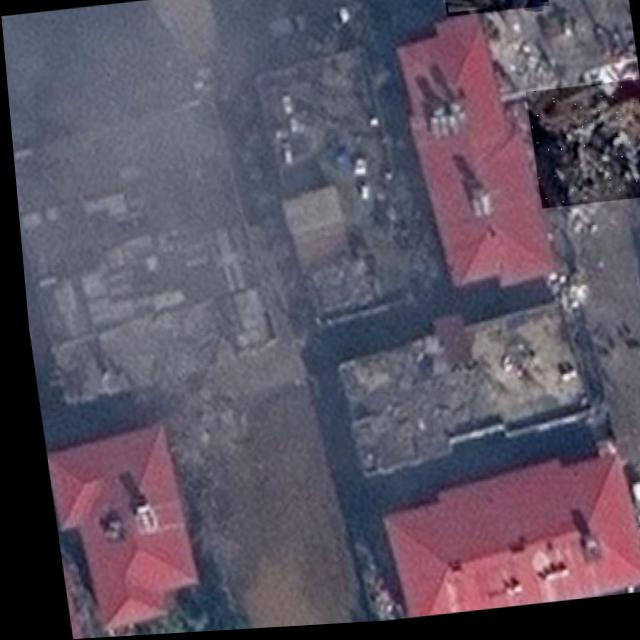Rubble: (523, 87, 640, 216), (441, 0, 549, 22)
